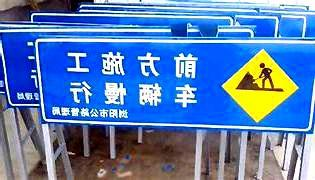sign: (35, 38, 314, 132)
